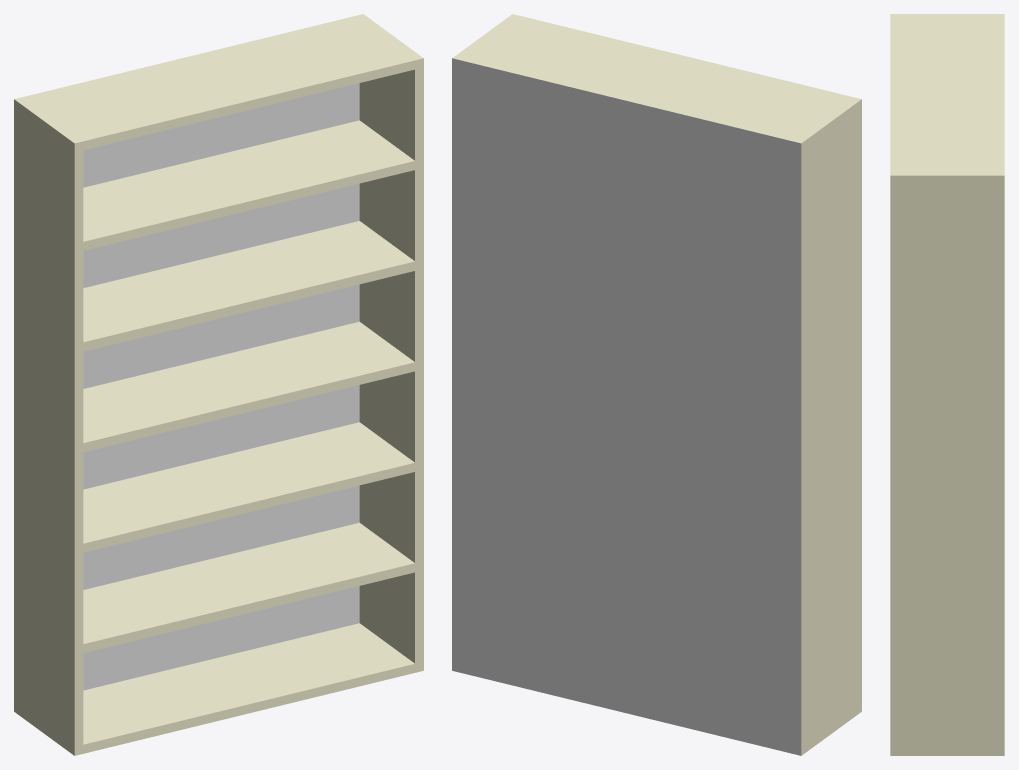
Rendered from Bookshelf.glb.
3 views of the same model, side by side, from view 1: azimuth 30°, elevation 25°; view 2: azimuth 150°, elevation 25°; view 3: azimuth 270°, elevation 25° (orthographic). The views are drawn at different scales.
Parts seen in each view (by area): view 1: Bookshelf; view 2: Bookshelf; view 3: Bookshelf.
Part boxes in pixels (box(x1,y1,x2,y2)): Bookshelf: box(14, 14, 423, 755); Bookshelf: box(452, 14, 861, 755); Bookshelf: box(890, 14, 1004, 755).
Bounding box in the file's own units: 1 × 1.68 × 0.3.
